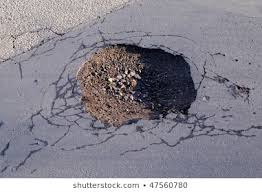pothole: (68, 34, 208, 125)
